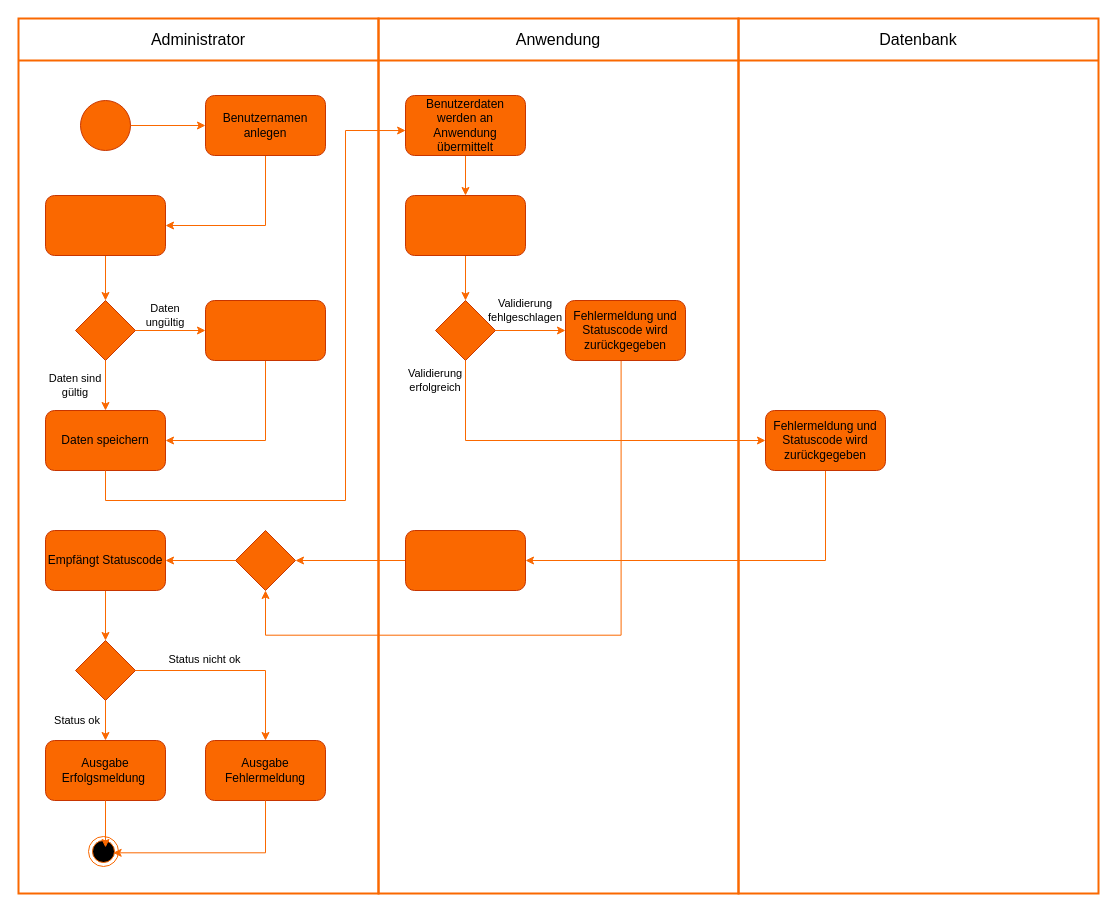
Image size: 1116x911. Some labels were removed from this diagram. The centre of each missing label's shape, as x and y in pixels:
"Benutzerdaten werden validiert" goes at (465,225).
"Daten korrigieren" goes at (265,330).
"Rolle vergeben" goes at (105,225).
"Statuscode 200 und Erfolgsmeldung wird zurückgegeben" goes at (465,560).
